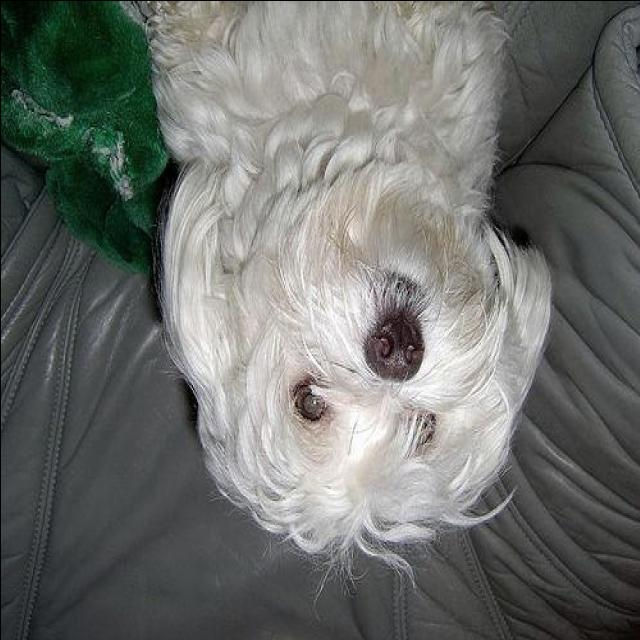maltese_dog: (142, 2, 550, 604)
